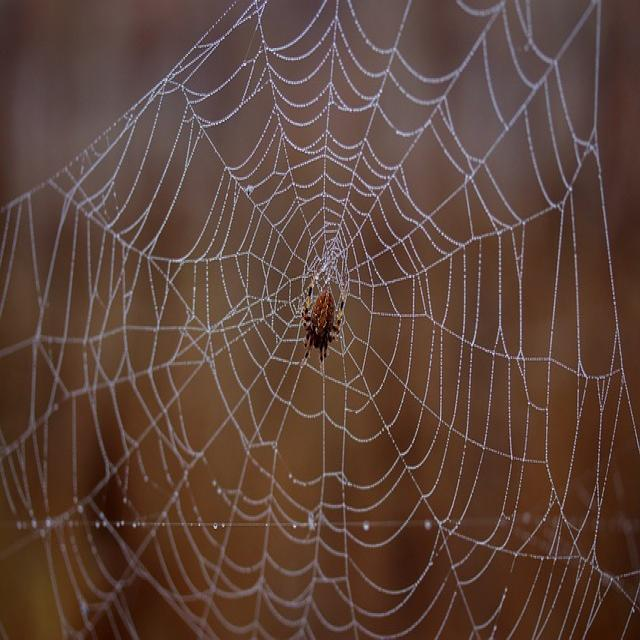spyder: (302, 290, 338, 361)
